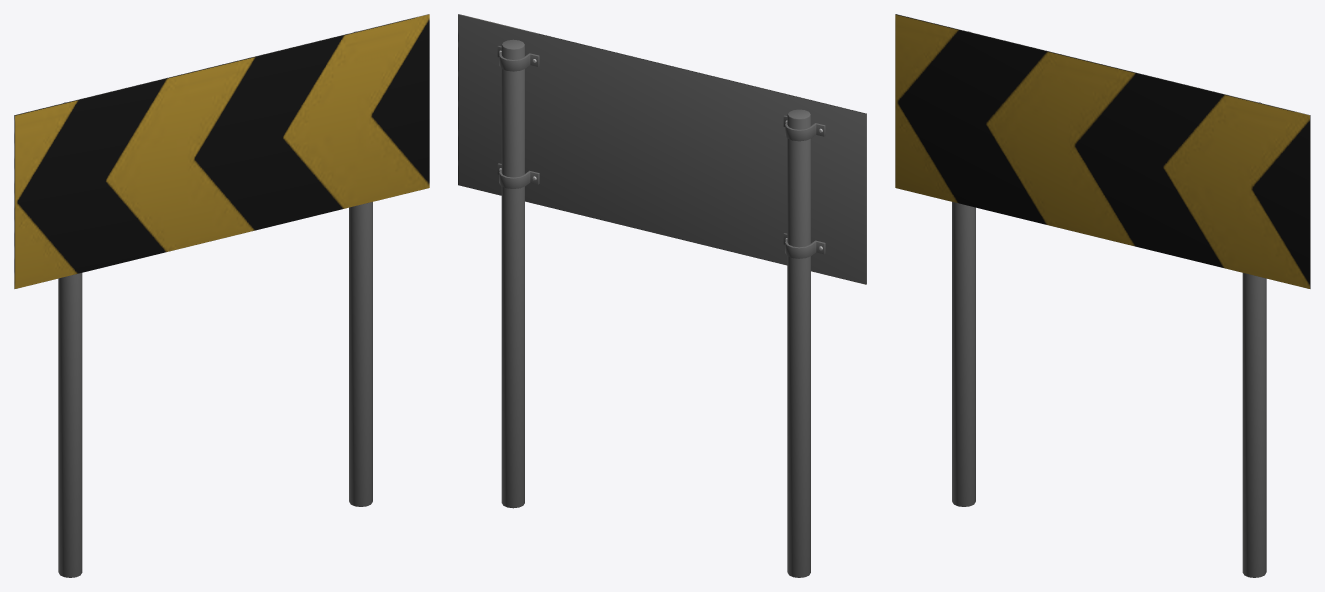
File: corner_turn_sign.glb
The picture shows the model from 3 angles, left to right: view 1: azimuth 30°, elevation 25°; view 2: azimuth 150°, elevation 25°; view 3: azimuth 330°, elevation 25°; orthographic projection.
Visible parts, largest first — view 1: SIGN; view 2: SIGN; view 3: SIGN.
Part boxes in pixels (left/top/right/bottom): SIGN: left=14, top=14, right=429, bottom=577; SIGN: left=458, top=14, right=866, bottom=577; SIGN: left=895, top=14, right=1310, bottom=577.
Size of the model in its own units: 2 by 2.2 by 0.1154.
1 material, 1 textured.
